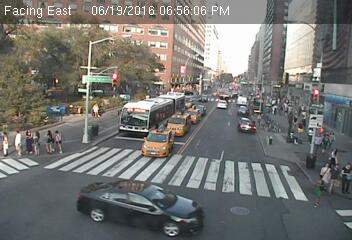neg: (137, 109, 156, 134), (165, 100, 177, 116)
pos: (90, 99, 107, 122)
